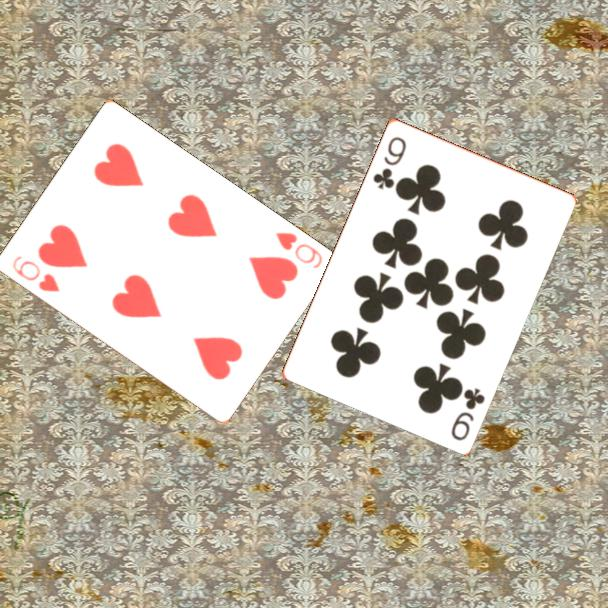c09: (447, 384, 488, 443), (369, 133, 409, 192)
h06: (8, 252, 63, 295), (272, 229, 325, 271)
